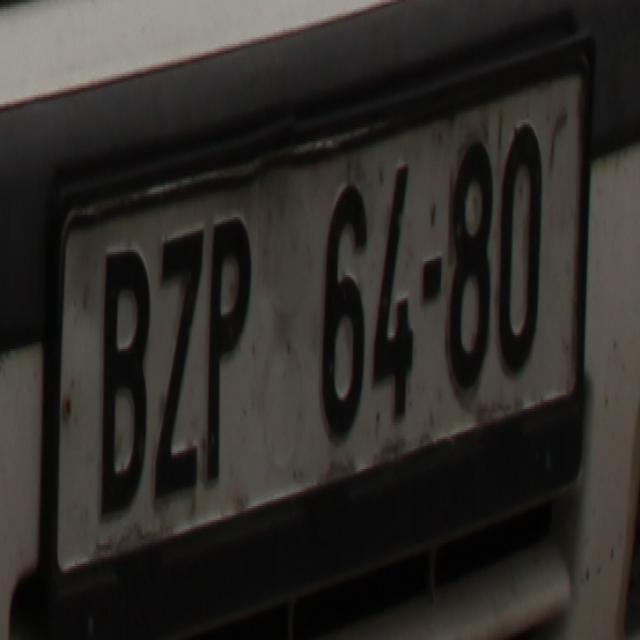0: (497, 120, 544, 374)
4: (370, 162, 416, 425)
6: (320, 187, 368, 446)
8: (445, 143, 492, 395)
B: (97, 245, 150, 522)
P: (203, 208, 253, 483)
Z: (158, 231, 204, 492)
